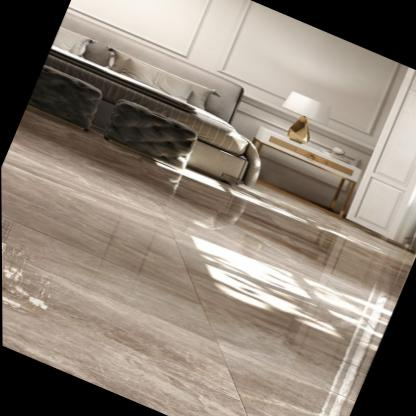Ceramic floor: (1, 105, 415, 416)
